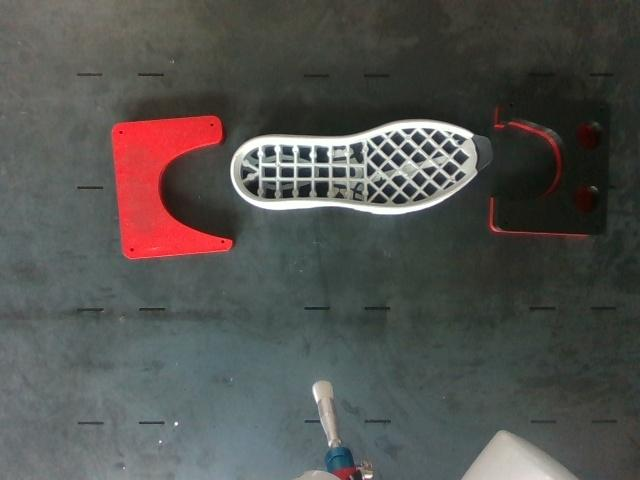shoes: (233, 122, 492, 208)
